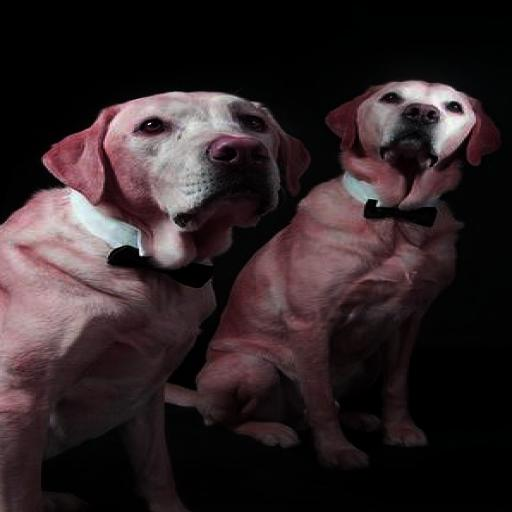dog_face: (43, 88, 326, 230), (322, 76, 503, 181)
